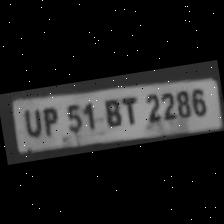1: (78, 96, 100, 131)
2: (140, 88, 166, 127), (153, 87, 176, 124)
5: (57, 98, 84, 134)
6: (185, 83, 210, 118)
8: (171, 86, 192, 120)
B: (96, 94, 124, 129)
P: (36, 101, 62, 137)
T: (116, 90, 141, 128)
U: (14, 103, 43, 139)
